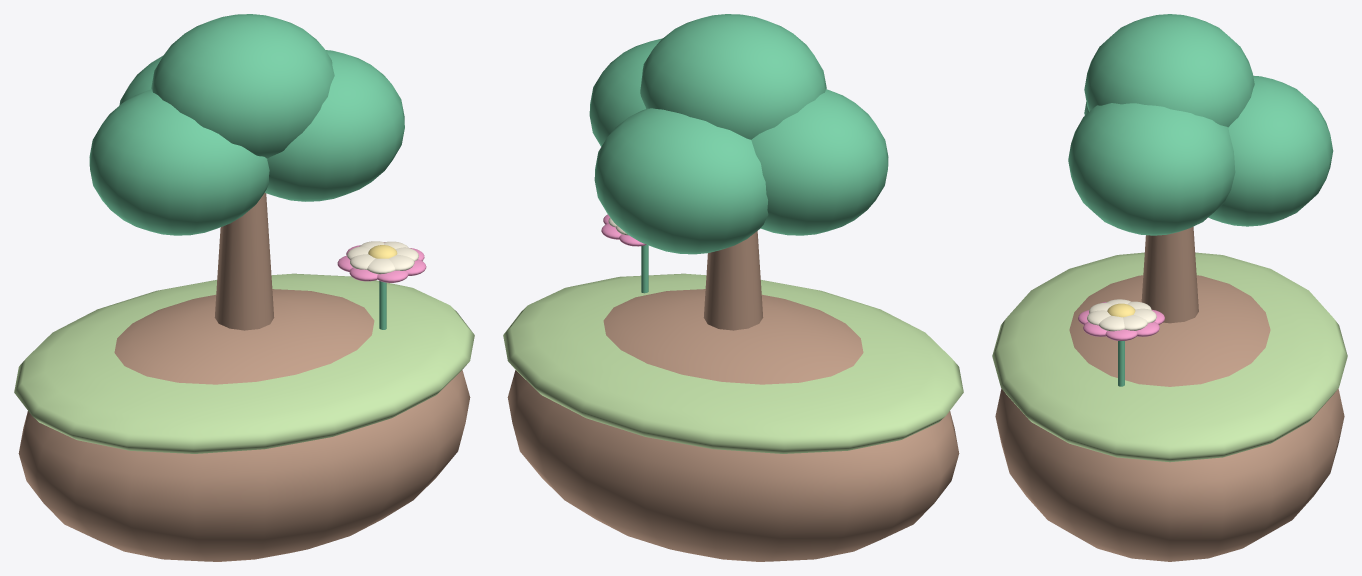
The model's file is st_rain_island.glb.
3 renders of one model, left to right at view 1: azimuth 30°, elevation 25°; view 2: azimuth 150°, elevation 25°; view 3: azimuth 270°, elevation 25°, orthographic. The views are drawn at different scales.
Parts seen in each view (by area): view 1: Floating_Tree_Island; view 2: Floating_Tree_Island; view 3: Floating_Tree_Island.
Part boxes in pixels (x1=…): Floating_Tree_Island: x1=14, y1=14, x2=474, y2=561; Floating_Tree_Island: x1=503, y1=14, x2=963, y2=561; Floating_Tree_Island: x1=992, y1=14, x2=1347, y2=561.
Bounding box in the file's own units: 2.96 × 3.4 × 2.2.
